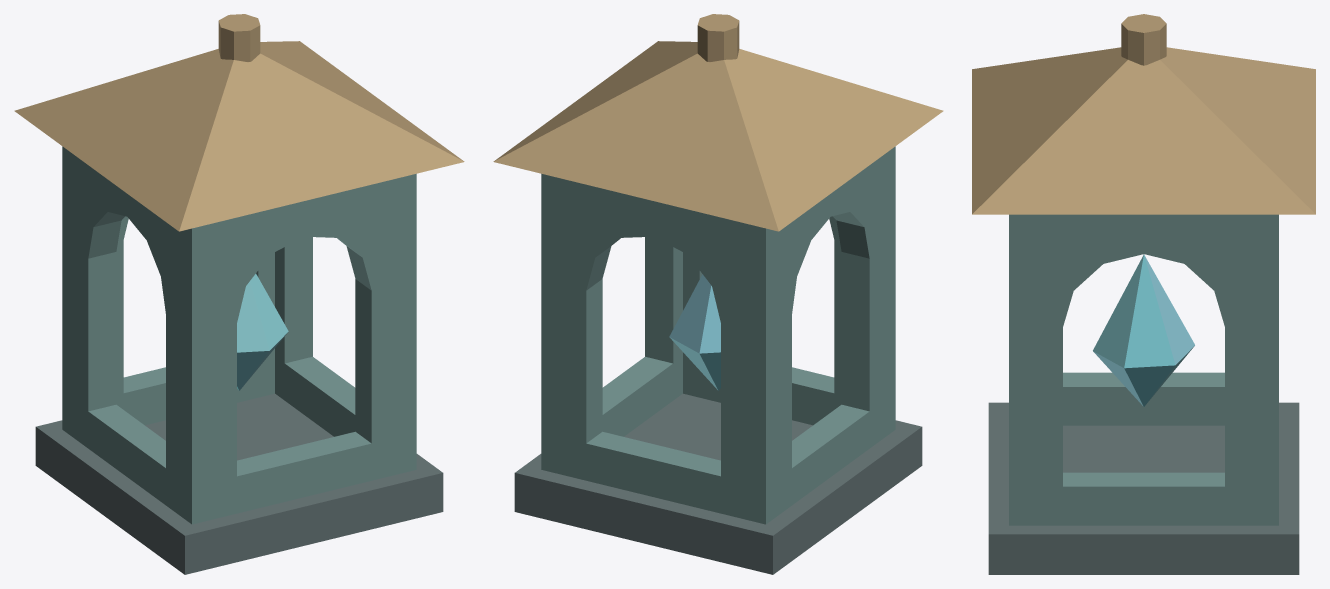
File: prop.glb
3 views of the same model, side by side, from view 1: azimuth 30°, elevation 25°; view 2: azimuth 150°, elevation 25°; view 3: azimuth 270°, elevation 25° (orthographic). The views are drawn at different scales.
Parts seen in each view (by area): view 1: geometry_0; view 2: geometry_0; view 3: geometry_0.
Boxes of the visible parts, x1,y1,x2,y2 form: geometry_0: [14, 14, 464, 574]; geometry_0: [493, 14, 943, 574]; geometry_0: [972, 14, 1315, 574].
Size of the model in its own units: 1.53 by 2.38 by 1.53.
